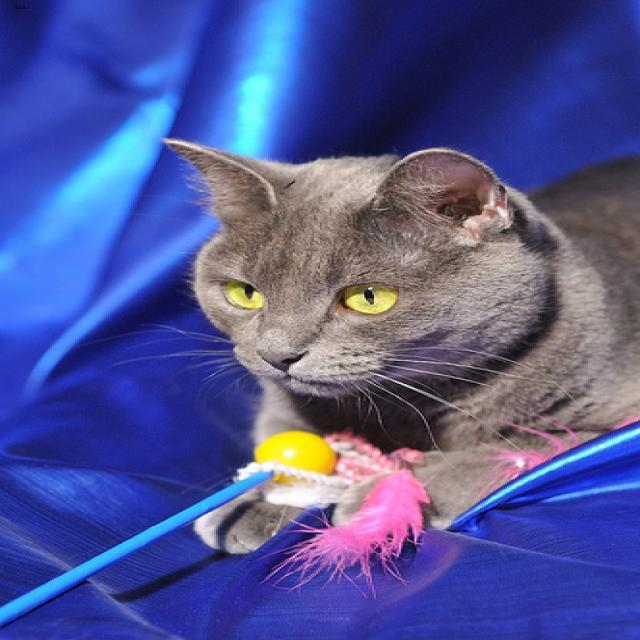Russian_Blue: (157, 128, 537, 399)
